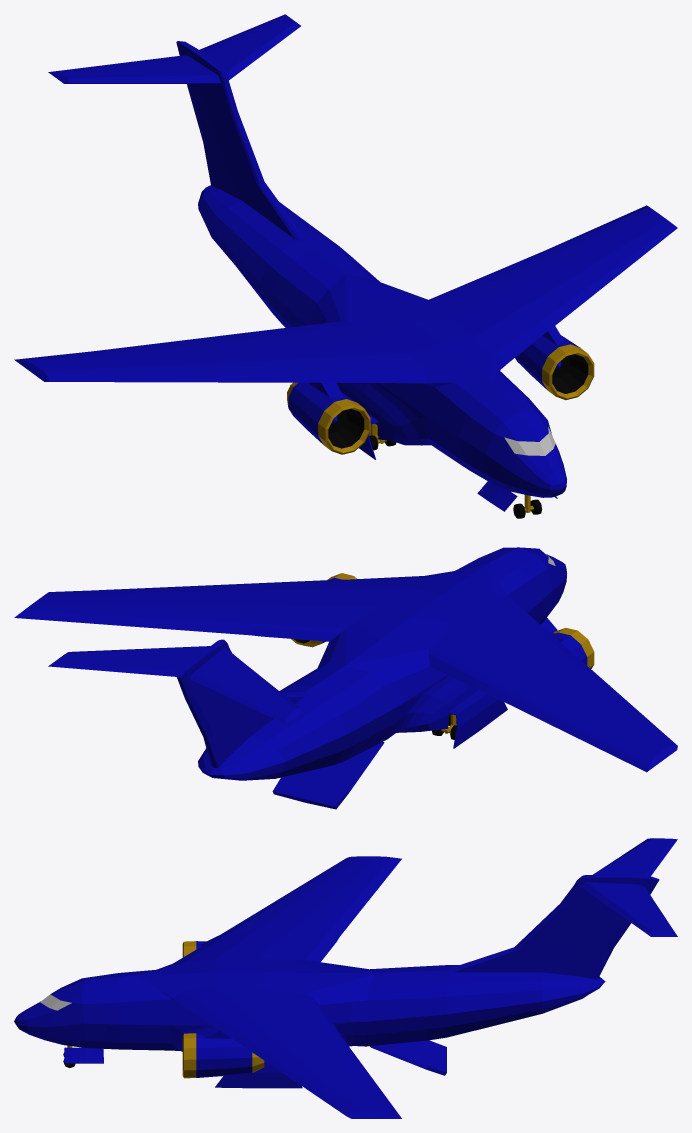
Rendered from Plane_blue.fbx.
The picture shows the model from 3 angles, top to bottom: view 1: azimuth 30°, elevation 25°; view 2: azimuth 150°, elevation 25°; view 3: azimuth 270°, elevation 25°; orthographic projection. The views are drawn at different scales.
Visible parts, largest first — view 1: aviao int; view 2: aviao int, p baixo c, pa t esq; view 3: aviao int, p baixo c, pa t dir, pa f dir.
Part boxes in pixels (x1=…): aviao int: x1=14, y1=14, x2=677, y2=497; aviao int: x1=14, y1=547, x2=677, y2=780; p baixo c: x1=272, y1=742, x2=384, y2=809; pa t esq: x1=448, y1=690, x2=507, y2=748; aviao int: x1=14, y1=838, x2=677, y2=1118; p baixo c: x1=370, y1=1040, x2=446, y2=1075; pa t dir: x1=215, y1=1061, x2=302, y2=1088; pa f dir: x1=64, y1=1047, x2=103, y2=1063.
Bounding box in the file's own units: 3133 × 1055 × 3380.
